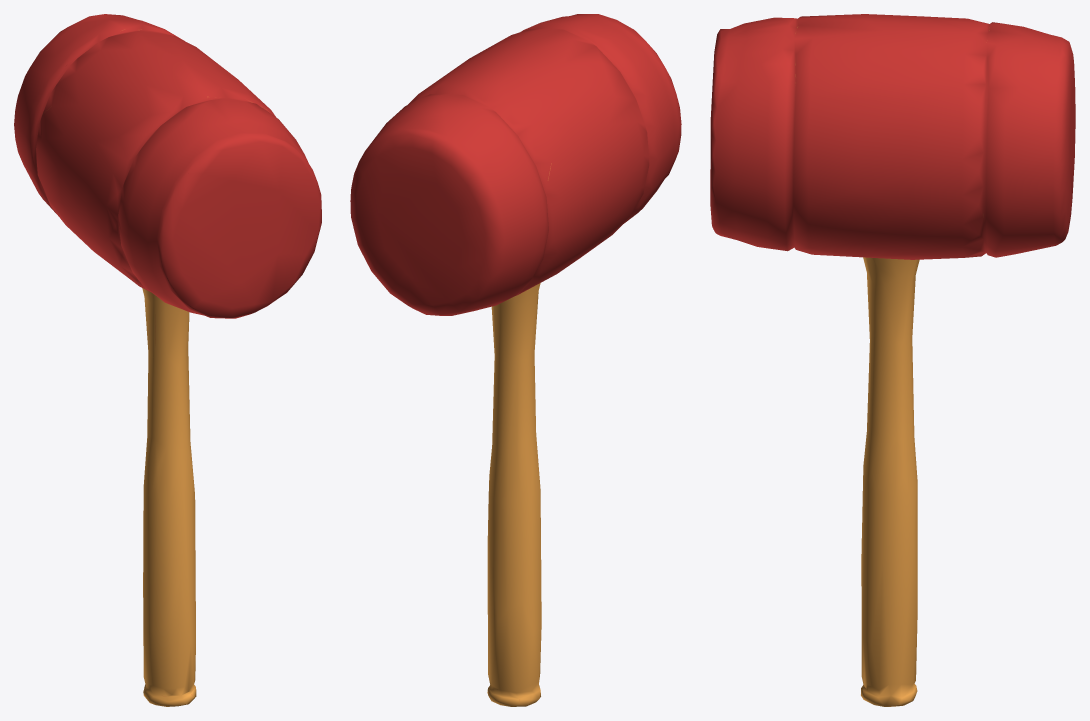
Rendered from Hammer.fbx.
The picture shows the model from 3 angles, left to right: view 1: azimuth 30°, elevation 25°; view 2: azimuth 150°, elevation 25°; view 3: azimuth 270°, elevation 25°; orthographic projection. The views are drawn at different scales.
Visible parts, largest first — view 1: Hammer; view 2: Hammer; view 3: Hammer.
Boxes of the visible parts, box(x1,y1,x2,y2) form: Hammer: box(14, 14, 321, 706); Hammer: box(350, 14, 681, 706); Hammer: box(710, 14, 1075, 706).
Bounding box in the file's own units: 55.7 × 181 × 88.54.
Materials: 1 (1 with a texture image).
